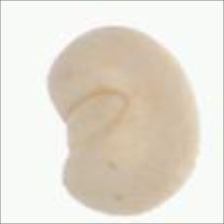L5: (61, 87, 133, 149)
L6: (45, 25, 203, 217)
